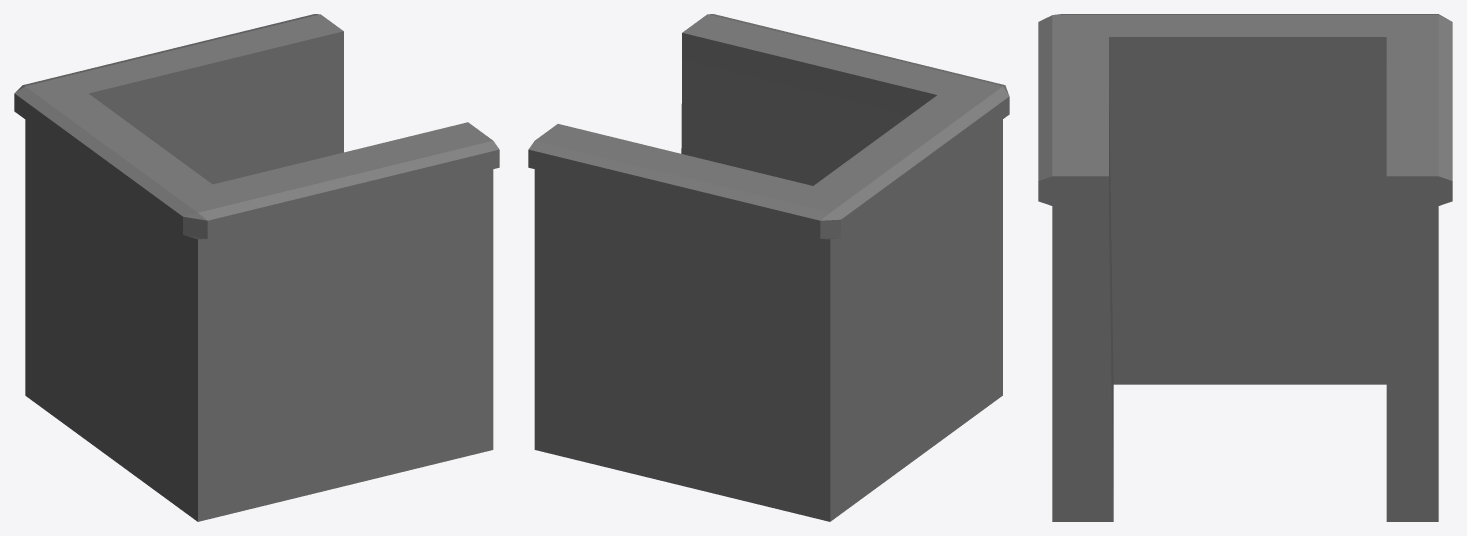
Rendered from Stone Wall 3.fbx.
The picture shows the model from 3 angles, left to right: view 1: azimuth 30°, elevation 25°; view 2: azimuth 150°, elevation 25°; view 3: azimuth 270°, elevation 25°; orthographic projection. The views are drawn at different scales.
Parts seen in each view (by area): view 1: Stone_Wall_3; view 2: Stone_Wall_3; view 3: Stone_Wall_3.
Boxes of the visible parts, <box> form: Stone_Wall_3: <box>14,14,499,521</box>; Stone_Wall_3: <box>528,14,1009,521</box>; Stone_Wall_3: <box>1038,14,1452,521</box>.
Size of the model in its own units: 4.2 by 4.05 by 4.4.
